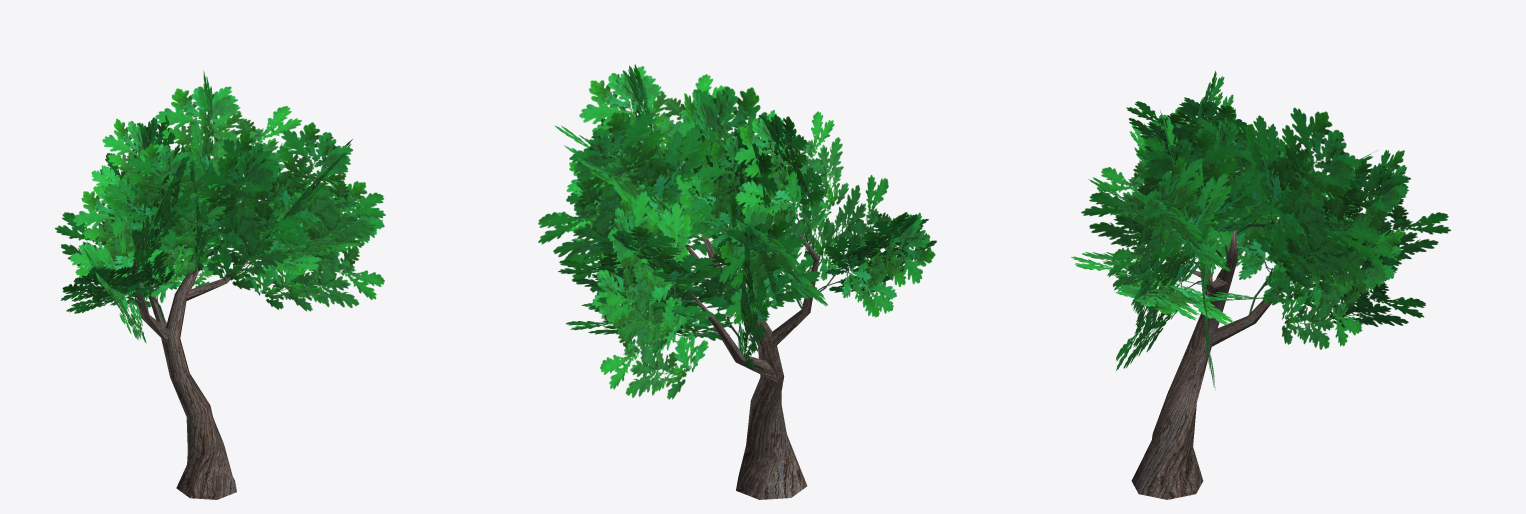
The model's file is Tree-Original.gltf.
3 views of the same model, side by side, from view 1: azimuth 30°, elevation 25°; view 2: azimuth 150°, elevation 25°; view 3: azimuth 270°, elevation 25° (orthographic). The views are drawn at different scales.
Parts seen in each view (by area): view 1: tree5.tga; view 2: tree5.tga; view 3: tree5.tga.
Part boxes in pixels (box(x1,y1,x2,y2)): tree5.tga: box(54, 71, 385, 499); tree5.tga: box(538, 64, 936, 499); tree5.tga: box(1071, 71, 1451, 499).
Size of the model in its own units: 19.42 by 18.79 by 17.63.
Materials: 1 (1 with a texture image).
